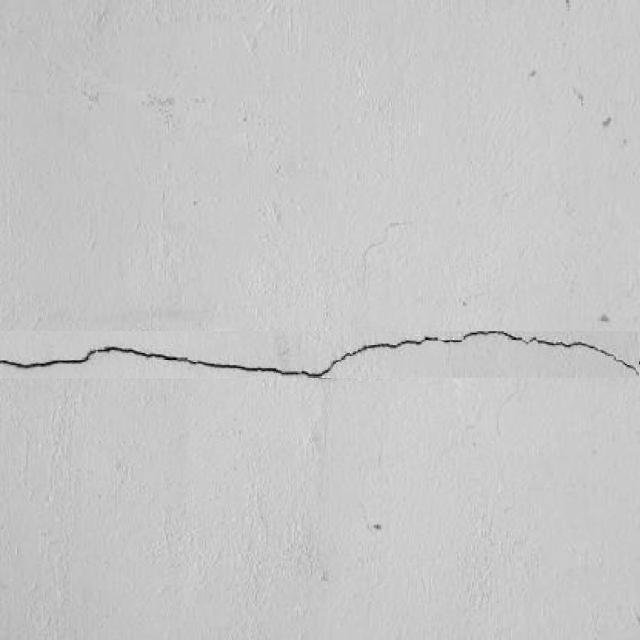horizontal crack: (0, 332, 639, 377)
